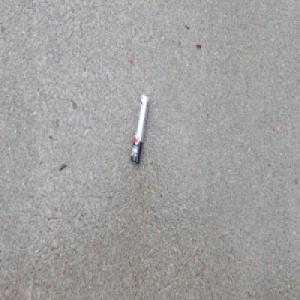Battery: (129, 92, 150, 166)
